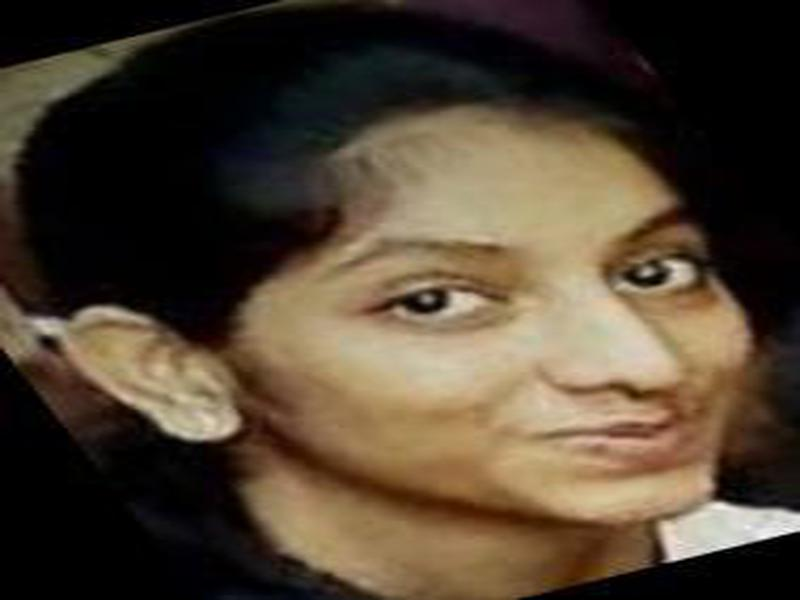without_mask: (225, 101, 757, 525)
